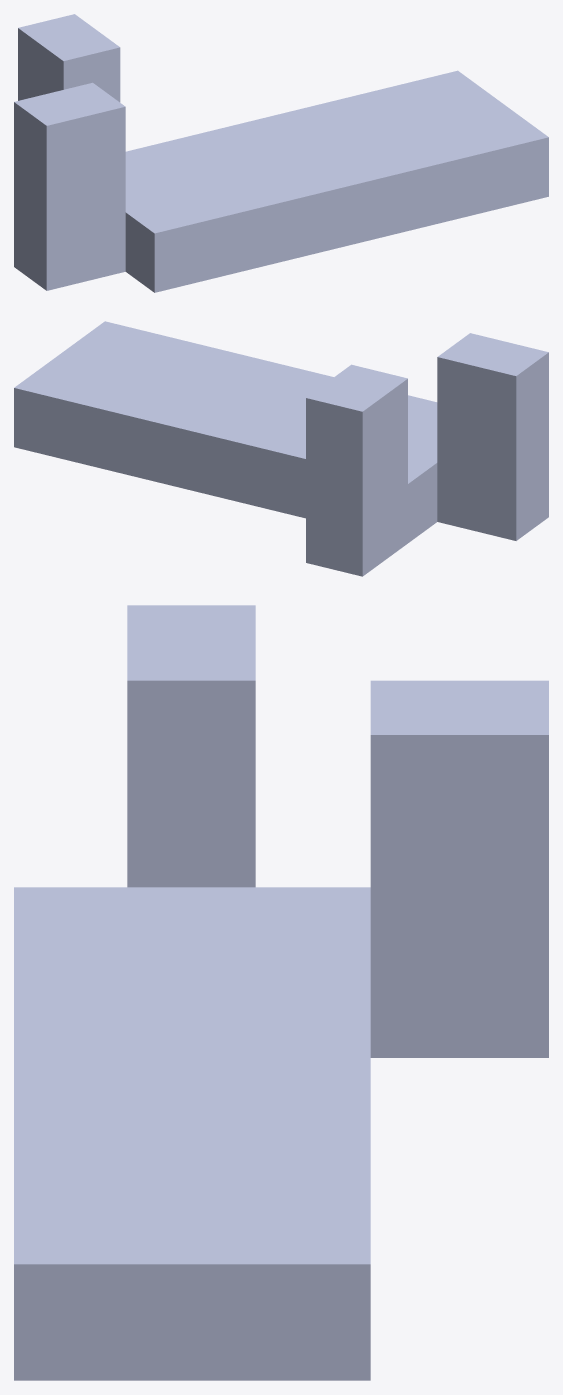
File: Distractor_03.obj
3 views of the same model, one above another, from view 1: azimuth 30°, elevation 25°; view 2: azimuth 150°, elevation 25°; view 3: azimuth 270°, elevation 25° (orthographic). The views are drawn at different scales.
Visible parts, largest first — view 1: mesh_1_Base-1.002; view 2: mesh_1_Base-1.002; view 3: mesh_1_Base-1.002.
Part boxes in pixels (x1,y1,x2,y2): mesh_1_Base-1.002: [14, 14, 548, 292]; mesh_1_Base-1.002: [14, 321, 548, 576]; mesh_1_Base-1.002: [14, 605, 548, 1380].
Bounding box in the file's own units: 0.15 × 0.05 × 0.075.
